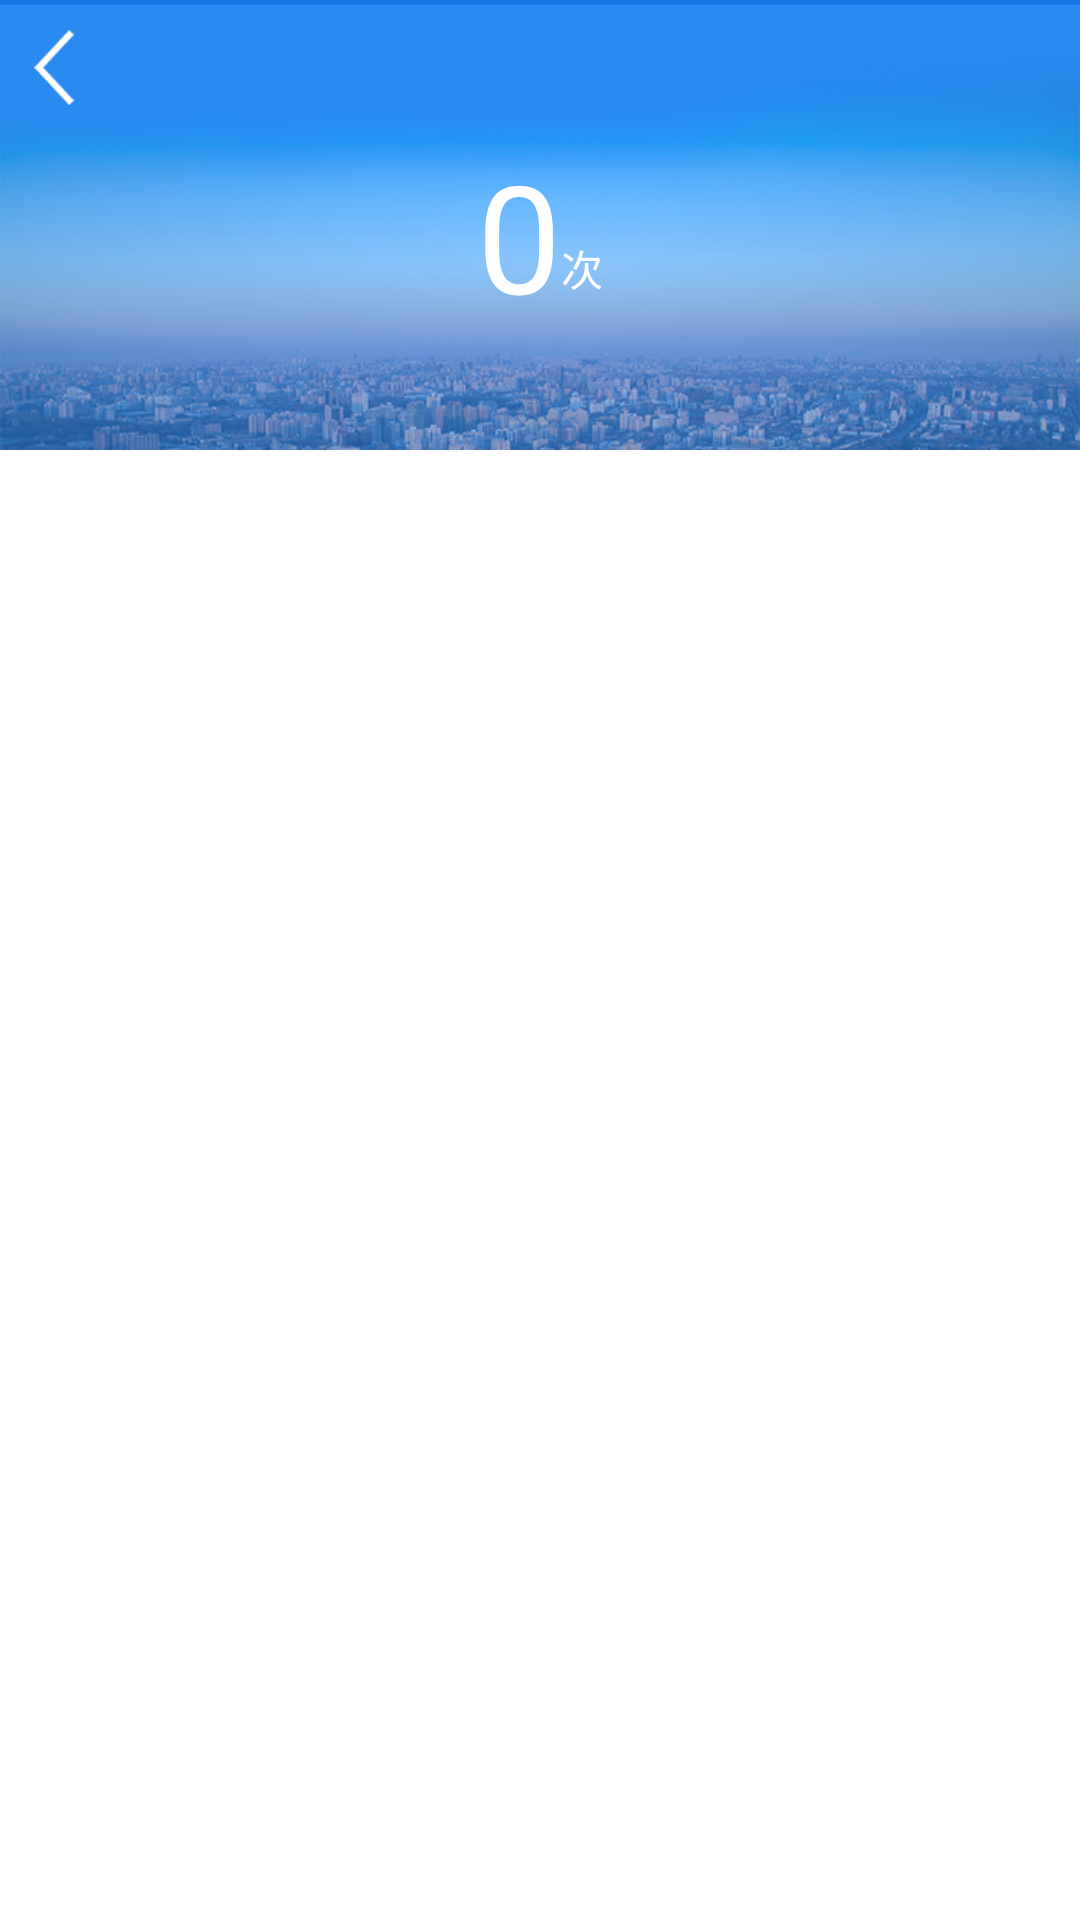

Named icons in this screenshot (1080 × 1920) and their bounding boxes, (x1, y1, x2, y2):
back: (34, 30, 74, 105)
